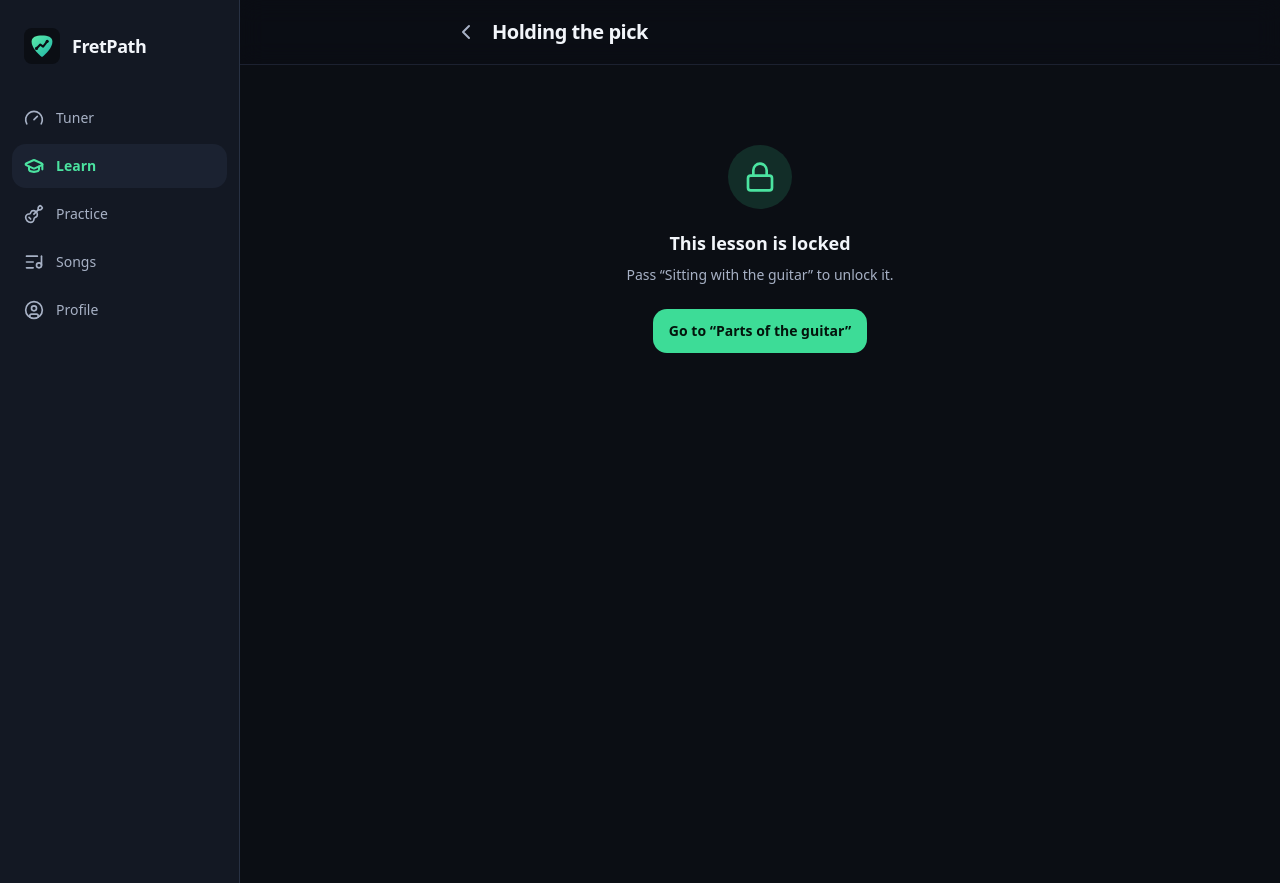
Scenario: Learn screens › keeps locked lessons closed and points to the next one
Expected: the heading "This lesson is locked" is shown, [669, 229, 851, 257]
Click the link "Go to “Parts of the guitar”". click: [760, 331]
box: [653, 309, 867, 353]
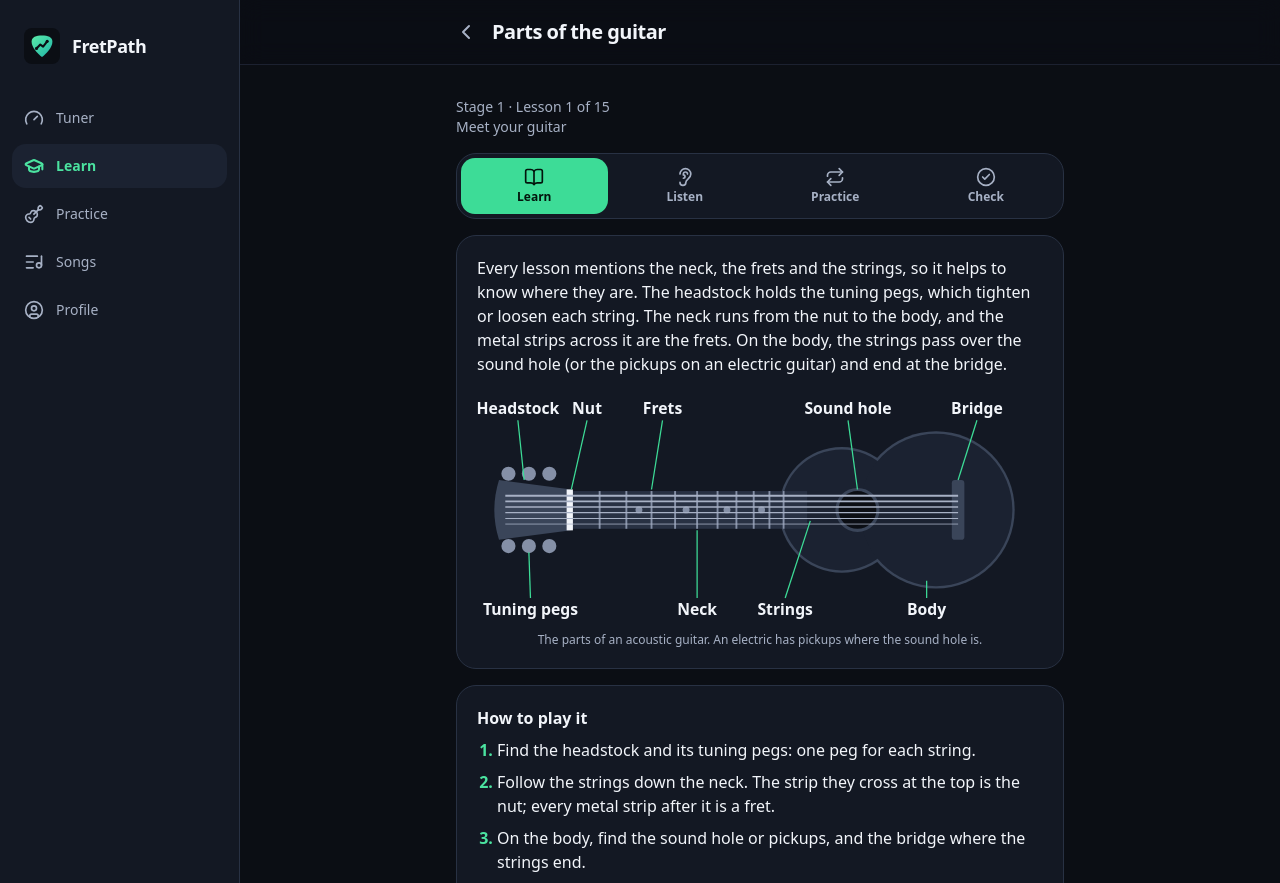
Expected: the heading "Parts of the guitar" is shown, [492, 18, 666, 45]
